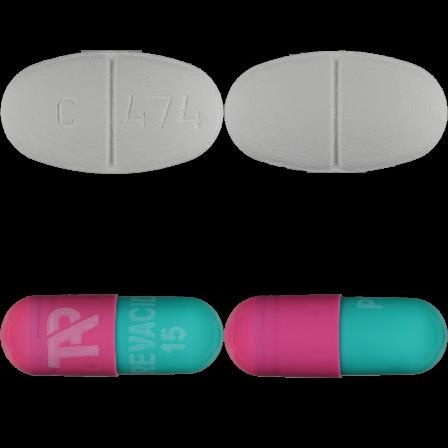21695-473: (0, 0, 224, 224)
